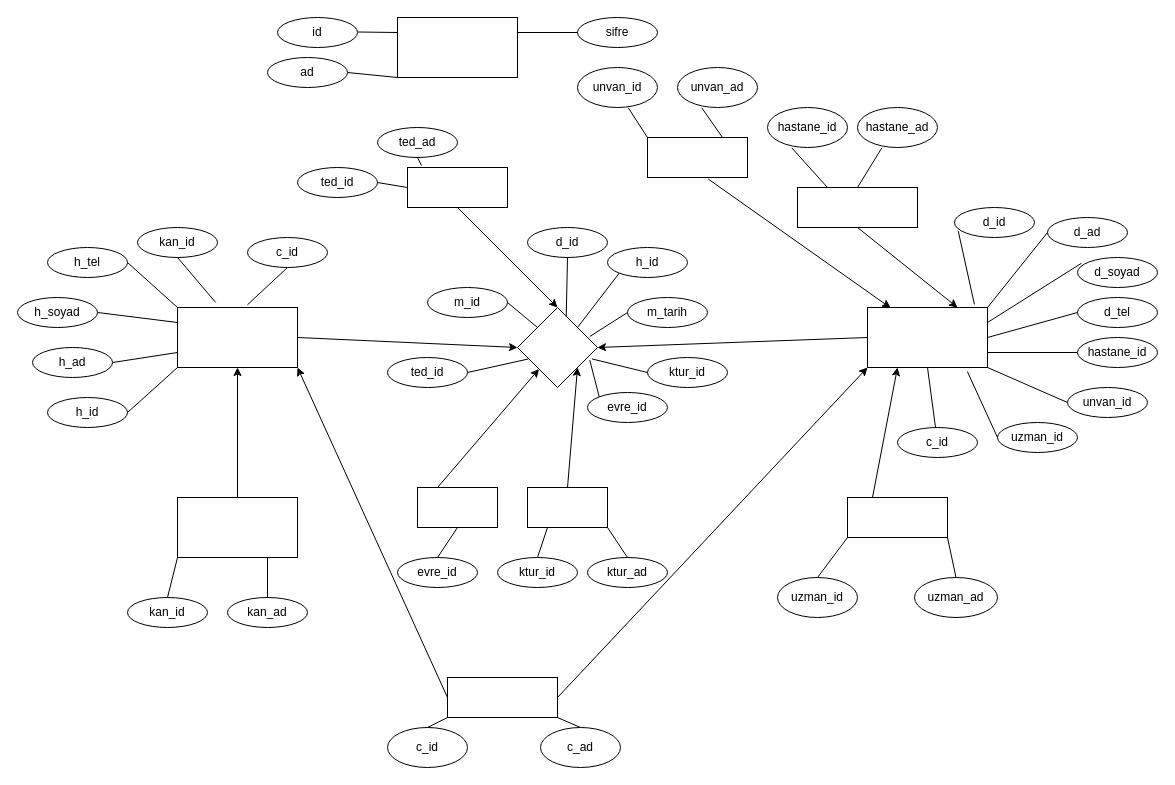
This 1175x785 diagram has some shape labels left out. Here are the shapes that lost their labels. From the top down, the centre of each, then its label:
At point (457, 47): "yonetici".
At point (697, 157): "unvan".
At point (457, 187): "tedavi".
At point (857, 207): "hastane".
At point (237, 337): "hasta".
At point (557, 347): "muayene".
At point (927, 337): "doktor".
At point (237, 527): "kangurubu".
At point (457, 507): "evre".
At point (567, 507): "kanserturu".
At point (897, 517): "uzman".
At point (502, 697): "cinsiyet".
